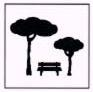sinais: (0, 1, 93, 92)
